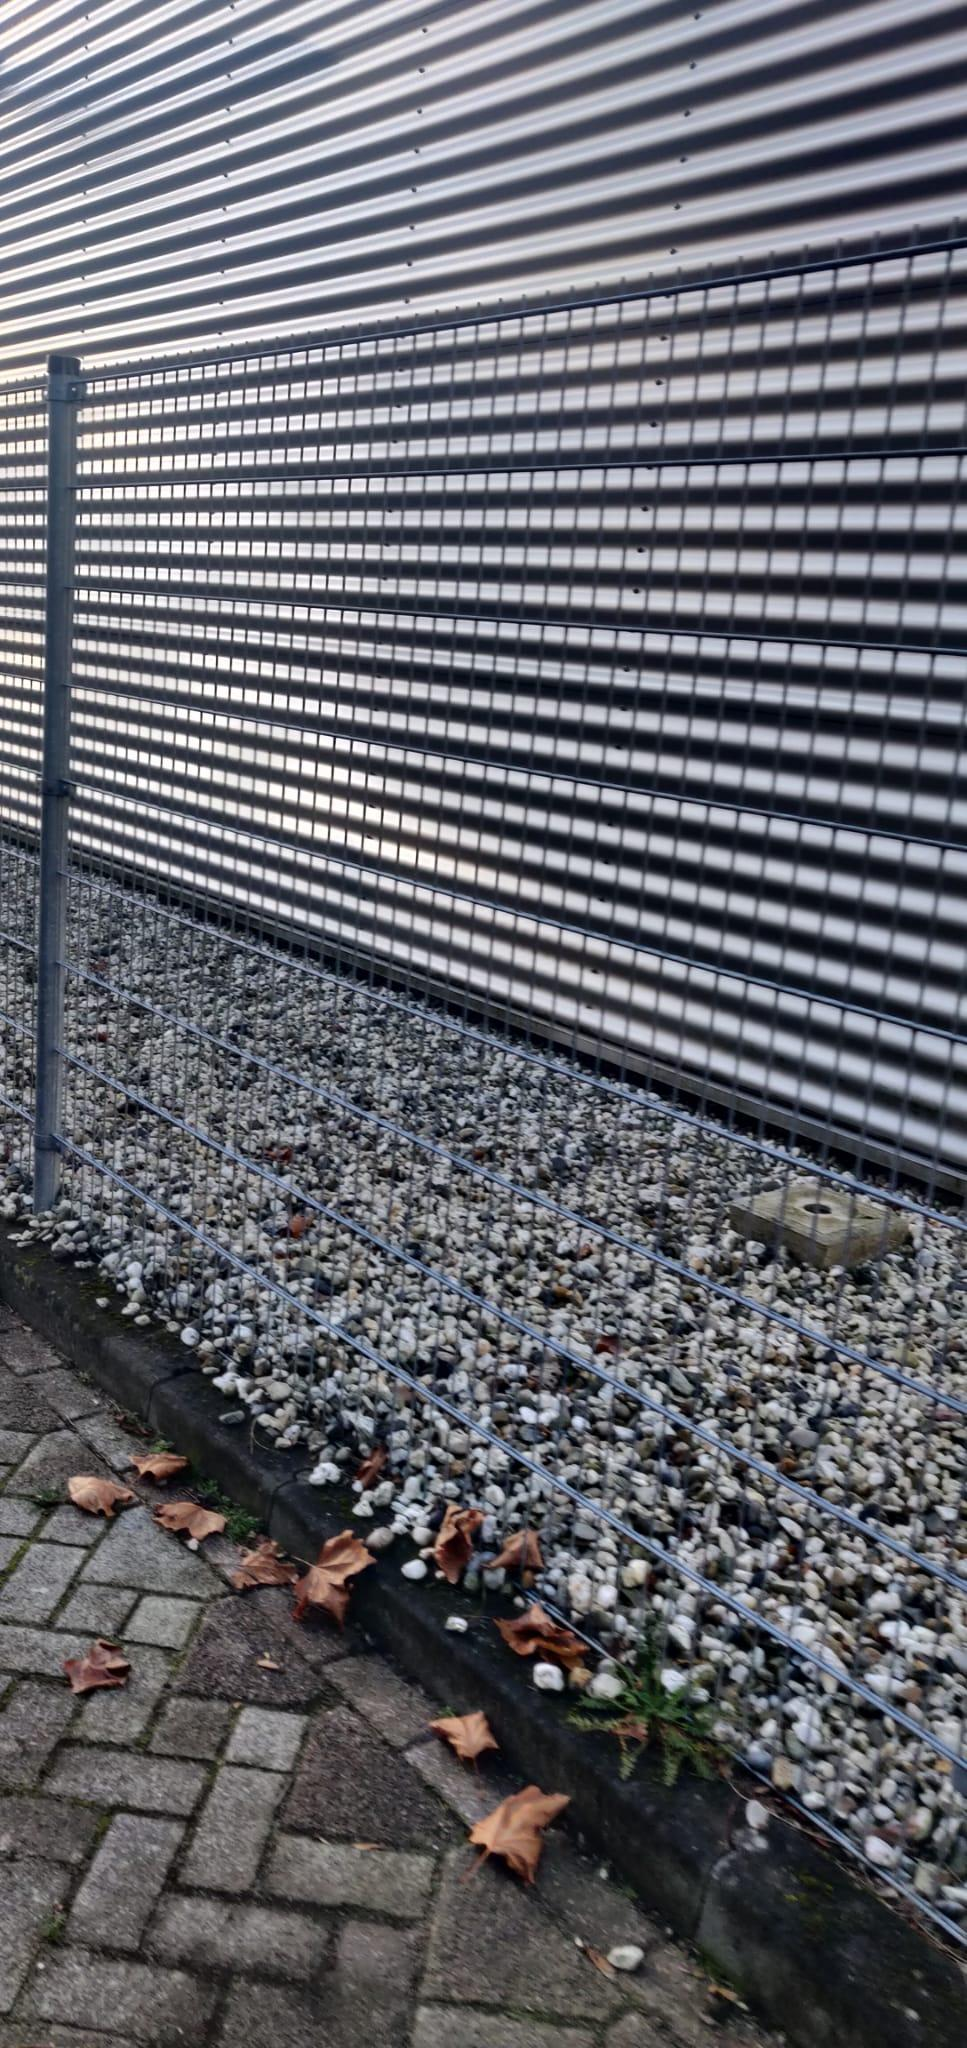obstacle: (0, 794, 911, 1643)
